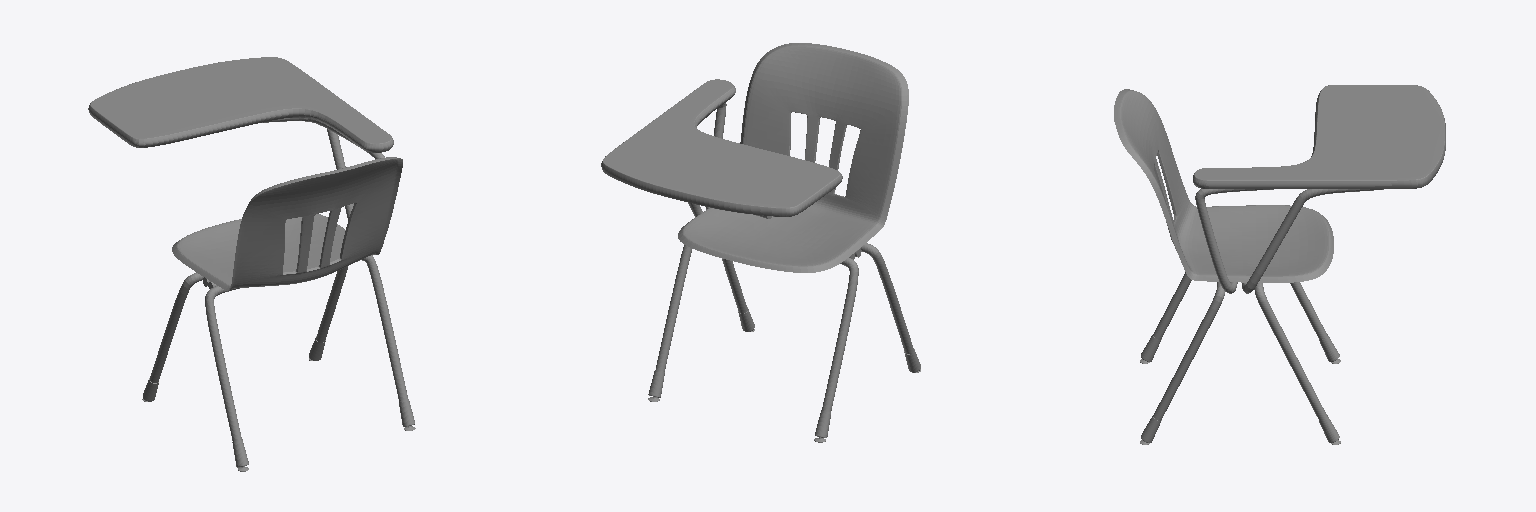
Rendered from Desk.obj.
3 views of the same model, side by side, from view 1: azimuth 30°, elevation 25°; view 2: azimuth 150°, elevation 25°; view 3: azimuth 270°, elevation 25° (orthographic).
Parts seen in each view (by area): view 1: 10246_School_Desk_v1_SG; view 2: 10246_School_Desk_v1_SG; view 3: 10246_School_Desk_v1_SG.
Boxes of the visible parts, box(x1,y1,x2,y2) form: 10246_School_Desk_v1_SG: box(88, 57, 415, 471); 10246_School_Desk_v1_SG: box(601, 43, 920, 442); 10246_School_Desk_v1_SG: box(1114, 85, 1445, 444).
Size of the model in its own units: 5.69 by 7.89 by 8.24.